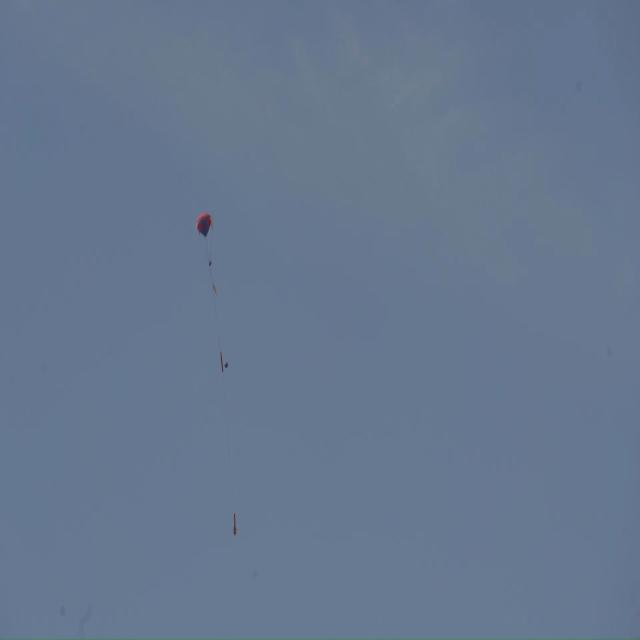Rocket: (233, 512, 237, 536)
